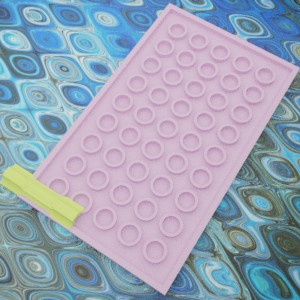lego: (16, 3, 300, 295), (0, 163, 85, 231)
